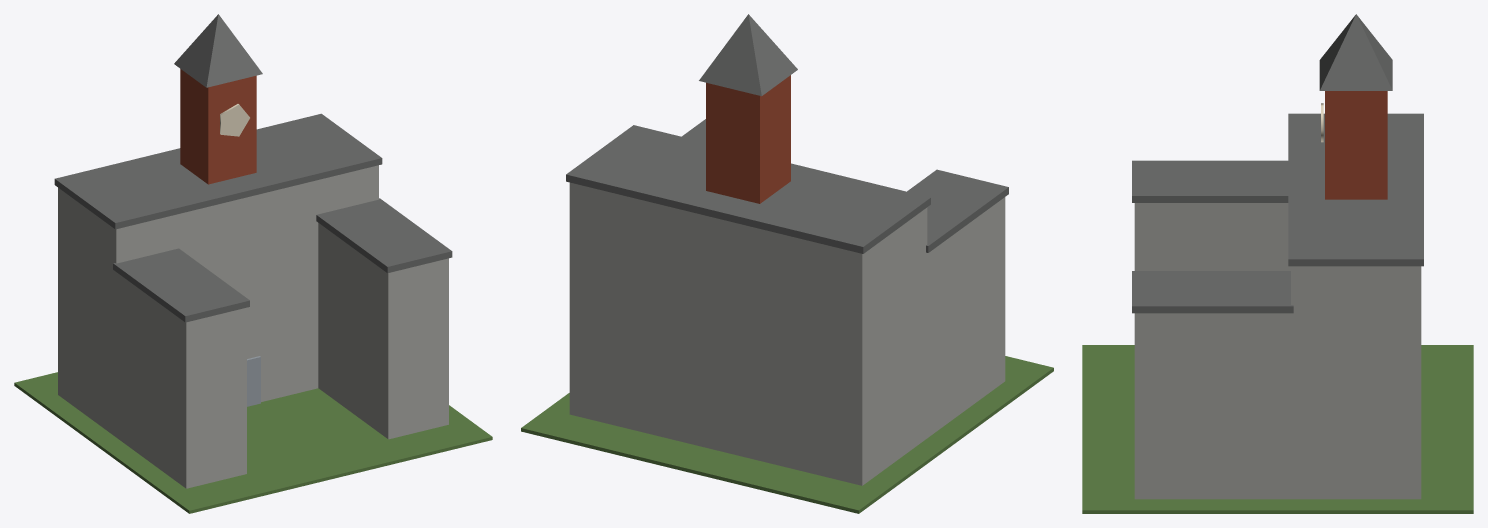
Rendered from bld_special_university_a06_lod2.glb.
3 renders of one model, left to right at view 1: azimuth 30°, elevation 25°; view 2: azimuth 150°, elevation 25°; view 3: azimuth 270°, elevation 25°, orthographic. The views are drawn at different scales.
Visible parts, largest first — view 1: body; view 2: body; view 3: body.
Boxes of the visible parts, bbox=[...] form: body: bbox=[14, 14, 492, 513]; body: bbox=[521, 14, 1053, 513]; body: bbox=[1082, 14, 1473, 513].
Bounding box in the file's own units: 15 × 17.65 × 15.
